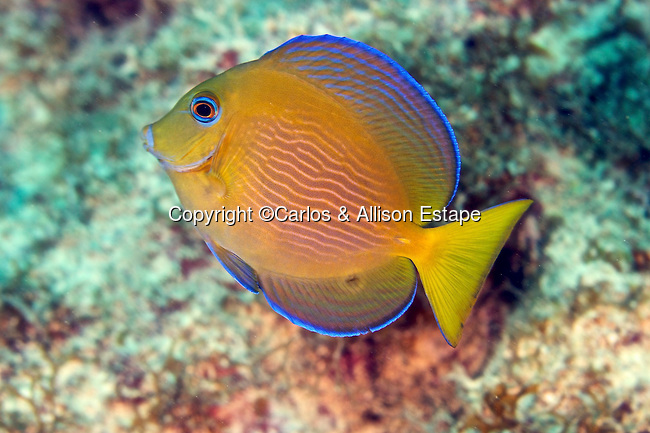Acanthurus_coeruleus: (130, 30, 535, 365)
